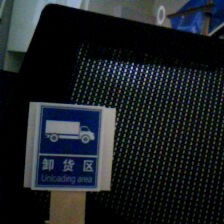unload: (30, 101, 114, 191)
